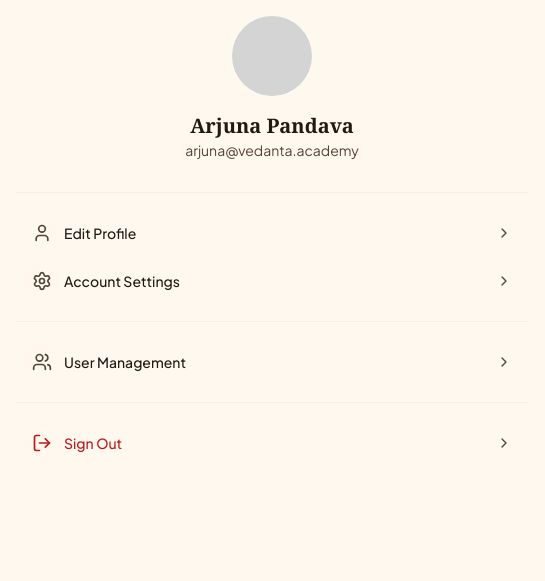
Scenario: ProfileContent › Account Settings (admin only) › shows role panel when Account Settings is clicked
Click the button "Account Settings" at [122, 281], box [16,257,528,305]
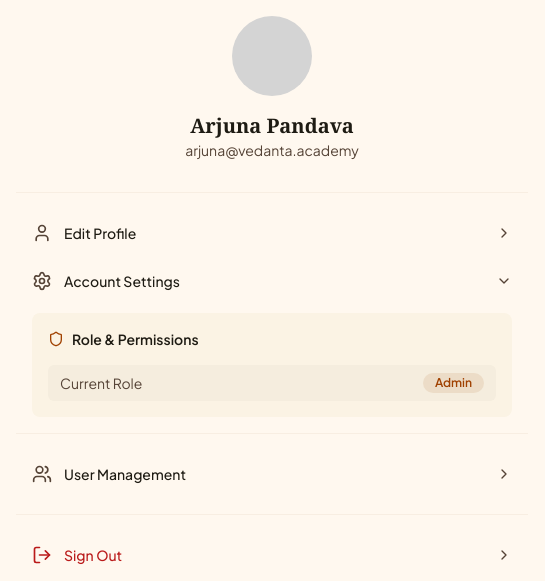
Now the text "Role & Permissions" is shown, box [72,329,199,349]
Now the text "Current Role" is shown, box [60,373,142,393]
